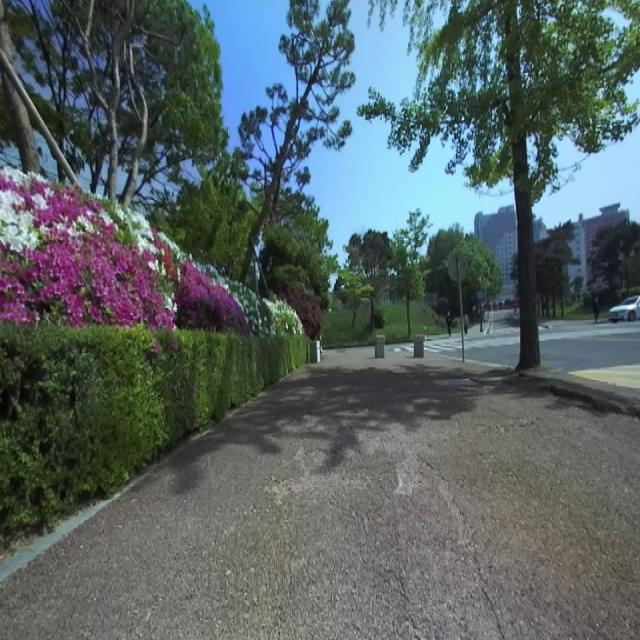sidewalk: (0, 348, 640, 639)
